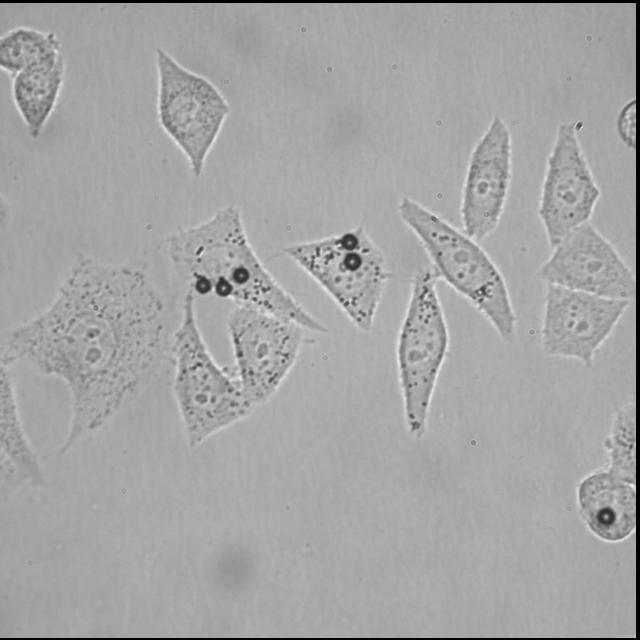microbeads: (192, 274, 212, 296), (212, 274, 232, 296), (596, 504, 616, 526), (344, 250, 362, 272), (342, 230, 358, 250), (232, 264, 248, 282)
